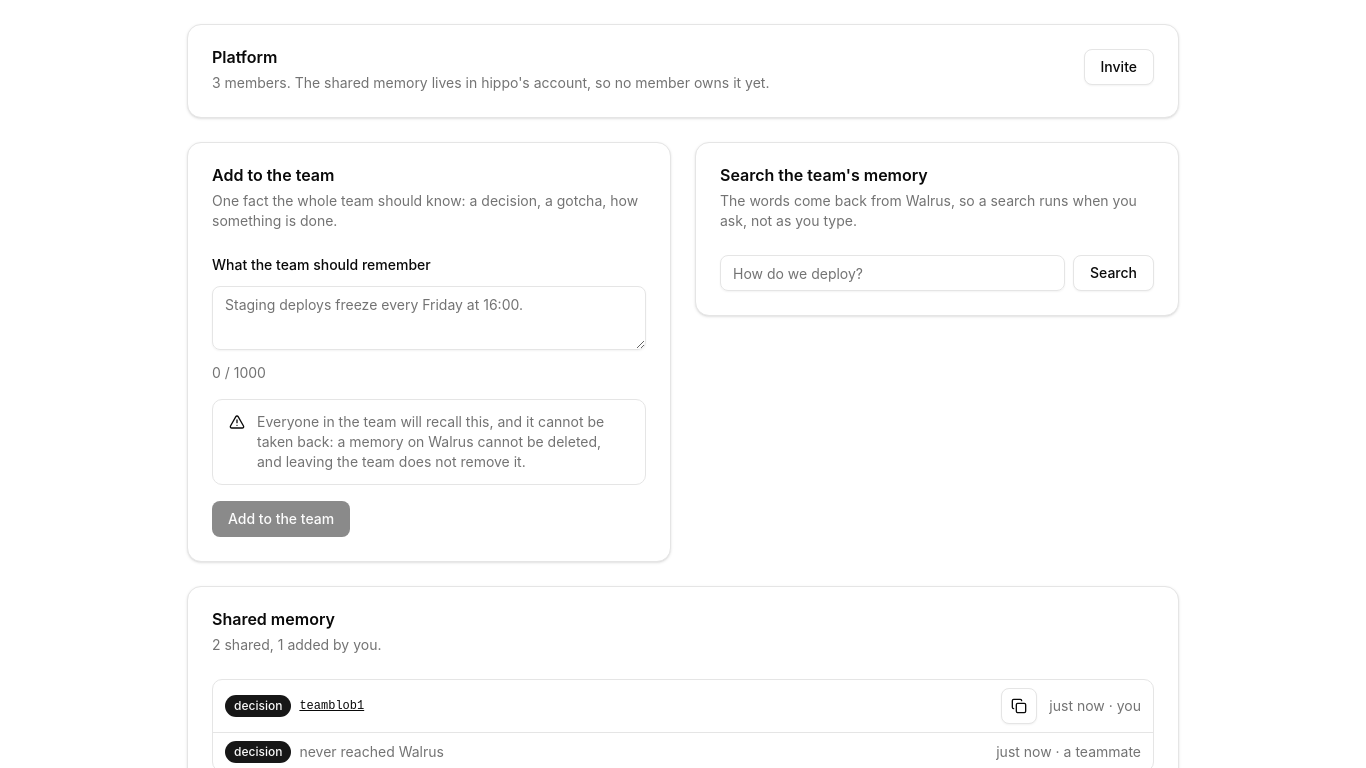
Test: team page › searches the team's memory when asked, not as you type, and never says who added it
Type "deploys" into the field named "Search the team's memory". click: (892, 273)
box: [720,255,1065,291]
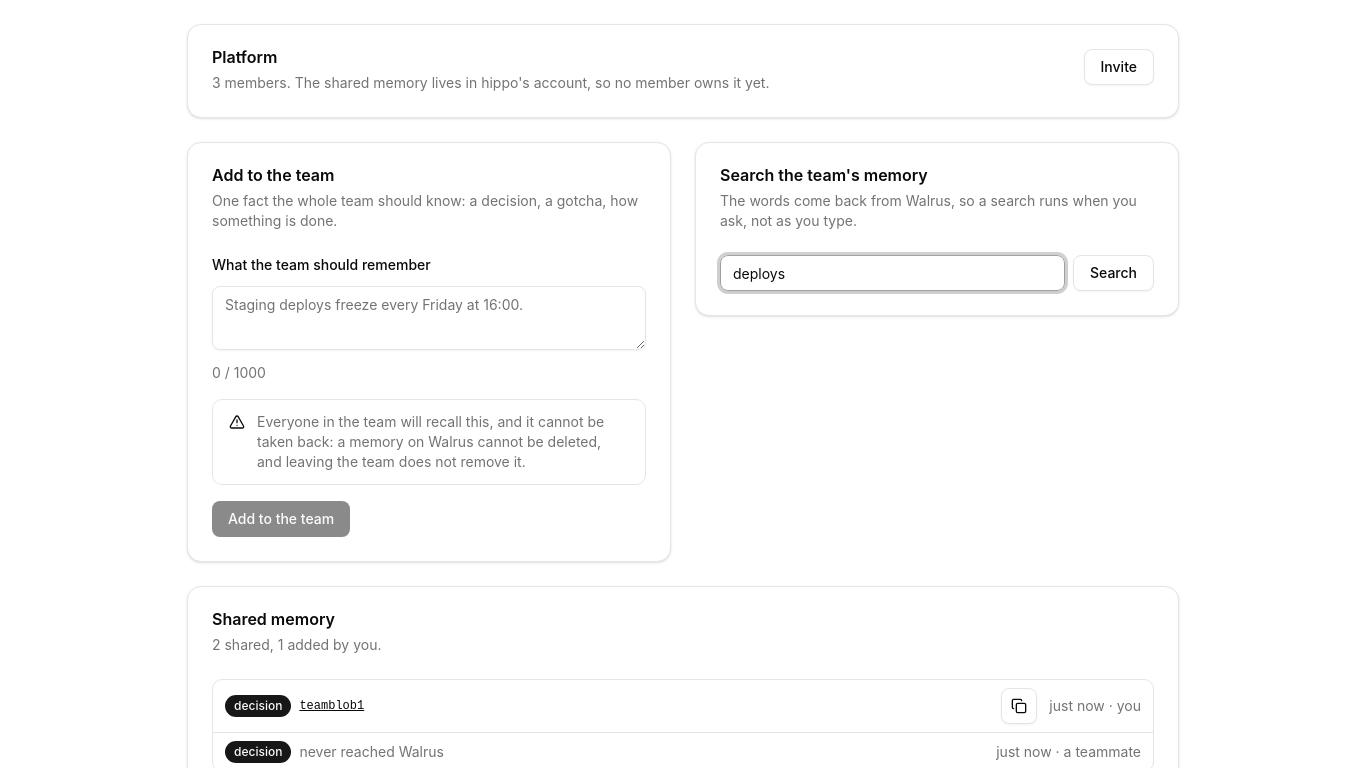
Click the button "Search". click: click(1114, 273)
box: [1073,255,1154,291]
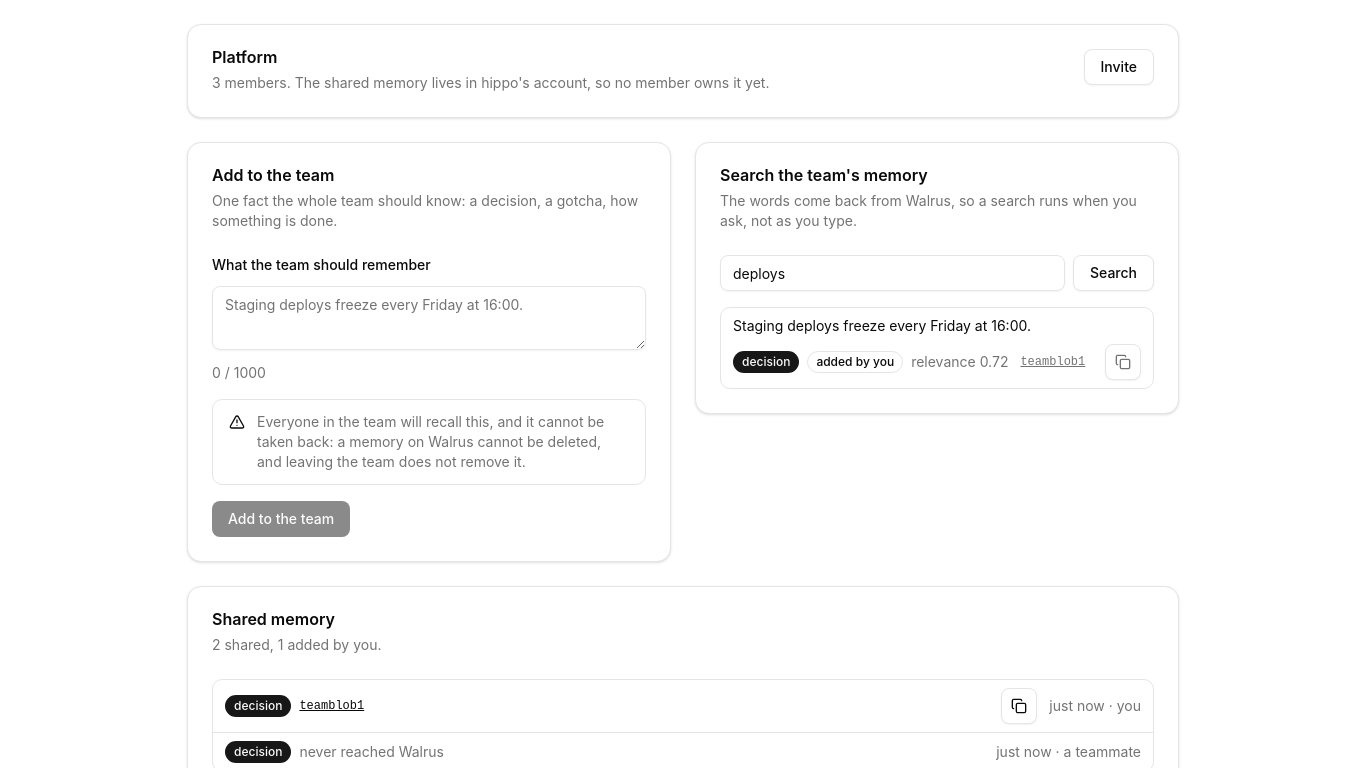
Expected: the text "added by you" is shown, [807,351,903,373]
Now the text "Staging deploys freeze every Friday at 16:00." is shown, box [733,317,1031,334]
Now the text "relevance 0.72" is shown, box [911,352,1008,372]
